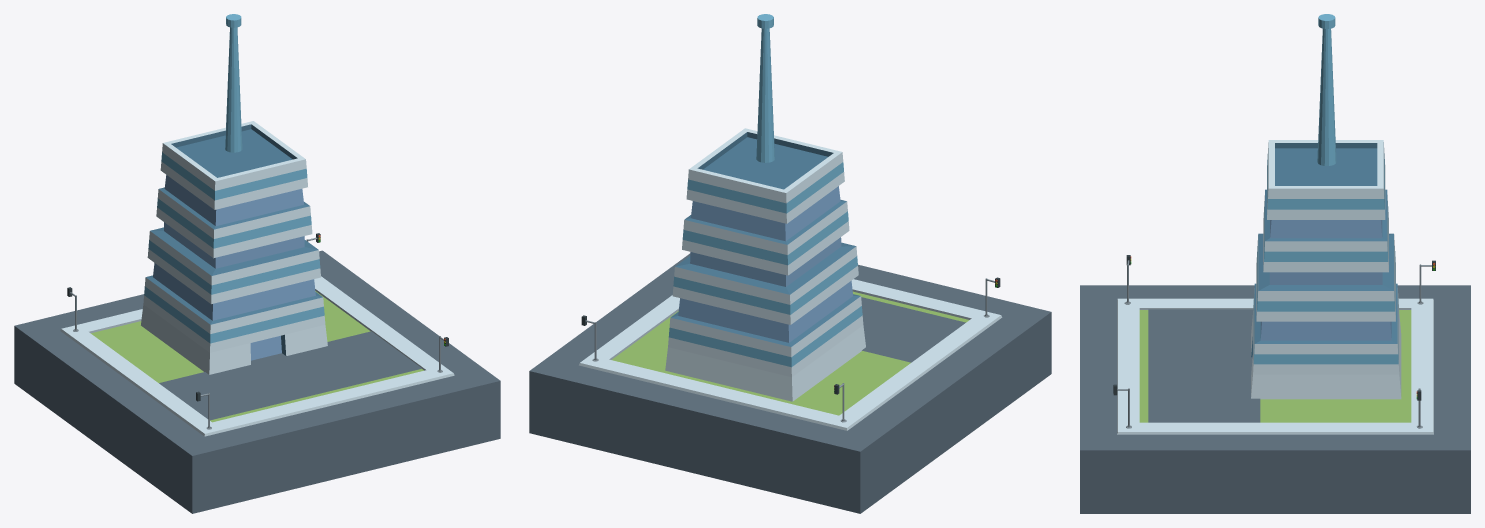
File: IOT.glb
3 renders of one model, left to right at view 1: azimuth 30°, elevation 25°; view 2: azimuth 150°, elevation 25°; view 3: azimuth 270°, elevation 25°, orthographic. The views are drawn at different scales.
Parts seen in each view (by area): view 1: Cube.001, Cube, Cylinder; view 2: Cube.001, Cube, Cylinder; view 3: Cube.001, Cube, Cylinder.
Boxes of the visible parts, x1=… form: Cube.001: x1=14, y1=250, x2=500, y2=513; Cube: x1=141, y1=121, x2=327, y2=374; Cylinder: x1=225, y1=14, x2=242, y2=152; Cube.001: x1=529, y1=253, x2=1051, y2=513; Cube: x1=665, y1=128, x2=865, y2=401; Cylinder: x1=756, y1=14, x2=774, y2=162; Cube.001: x1=1080, y1=285, x2=1470, y2=513; Cube: x1=1251, y1=140, x2=1401, y2=399; Cylinder: x1=1317, y1=14, x2=1336, y2=165.
Size of the model in its own units: 17.05 by 19.91 by 17.05.
